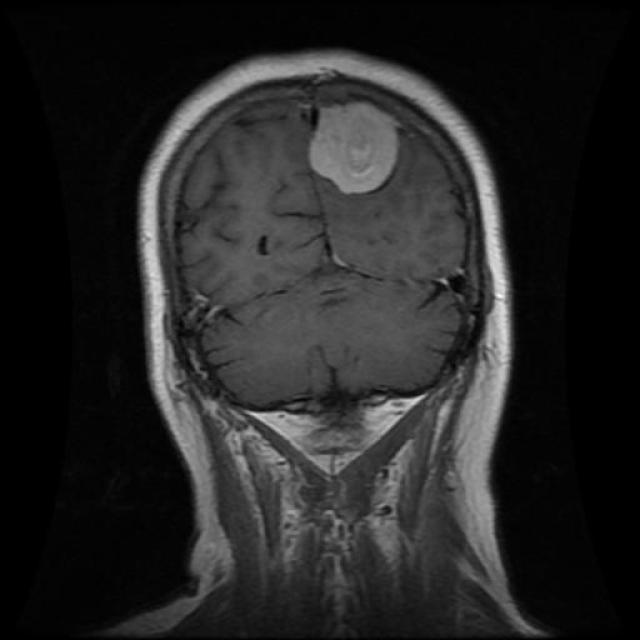meningioma: (309, 102, 399, 195)
